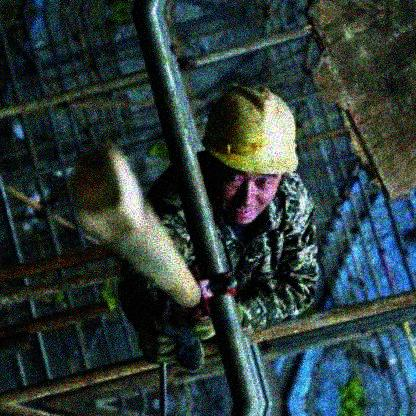helmet: (201, 81, 300, 227)
